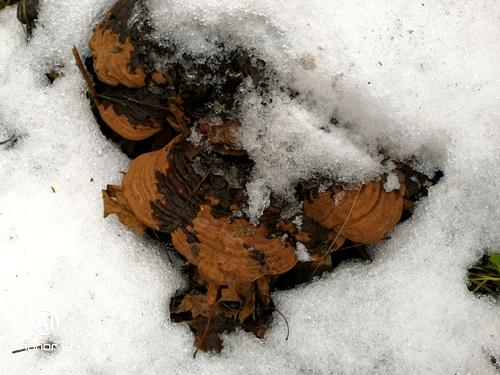Ganoderma - Fruit Body: (81, 0, 428, 336)
